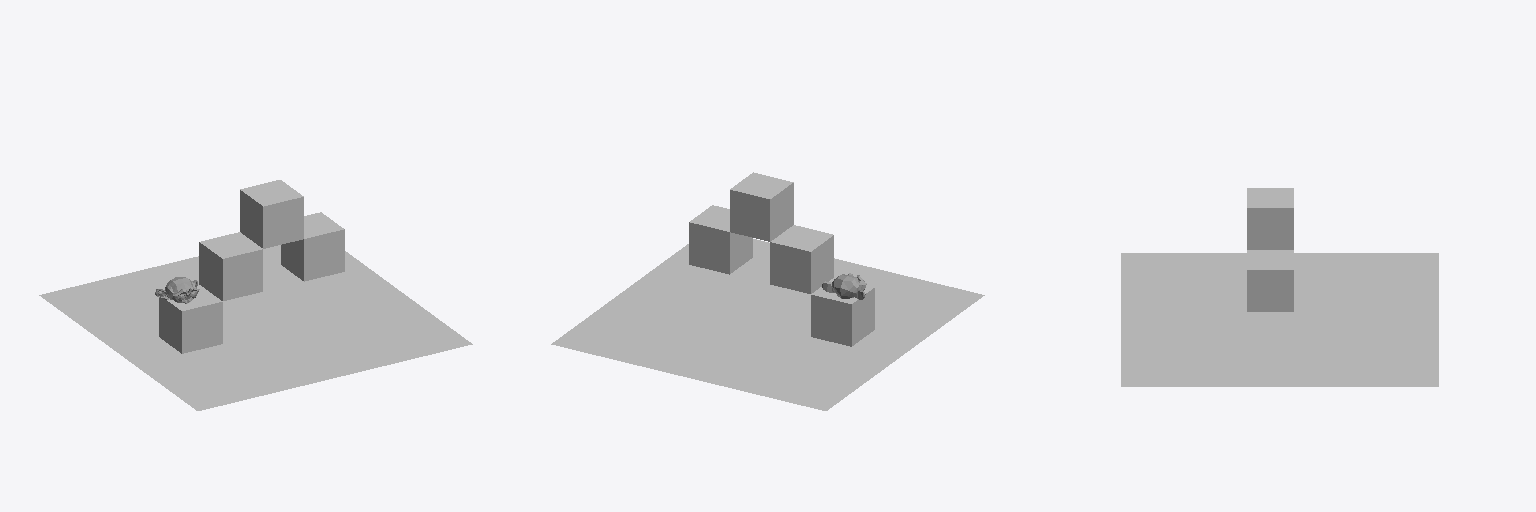
File: fullCube.obj
3 renders of one model, left to right at view 1: azimuth 30°, elevation 25°; view 2: azimuth 150°, elevation 25°; view 3: azimuth 270°, elevation 25°, orthographic.
Visible parts, largest first — view 1: Plane, Cube.002_Cube.003, Cube.001_Cube.002, Cube_Cube.001, Cube.003_Cube.004, Suzanne; view 2: Plane, Cube.002_Cube.003, Cube.001_Cube.002, Cube.003_Cube.004, Cube_Cube.001, Suzanne; view 3: Plane, Cube.002_Cube.003, Cube.003_Cube.004.
Part boxes in pixels (left/top/right/bottom): Plane: left=39, top=245, right=472, bottom=410; Cube.002_Cube.003: left=240, top=180, right=303, bottom=248; Cube.001_Cube.002: left=199, top=232, right=262, bottom=300; Cube_Cube.001: left=159, top=285, right=222, bottom=353; Cube.003_Cube.004: left=281, top=212, right=344, bottom=281; Suzanne: left=155, top=277, right=199, bottom=303; Plane: left=551, top=239, right=984, bottom=410; Cube.002_Cube.003: left=730, top=172, right=793, bottom=241; Cube.001_Cube.002: left=770, top=225, right=833, bottom=293; Cube.003_Cube.004: left=689, top=205, right=752, bottom=274; Cube_Cube.001: left=811, top=277, right=874, bottom=346; Suzanne: left=822, top=273, right=866, bottom=299; Plane: left=1121, top=253, right=1438, bottom=386; Cube.002_Cube.003: left=1247, top=188, right=1293, bottom=249; Cube.003_Cube.004: left=1247, top=250, right=1293, bottom=311.
Bounding box in the file's own units: 17.53 × 7.76 × 17.53.